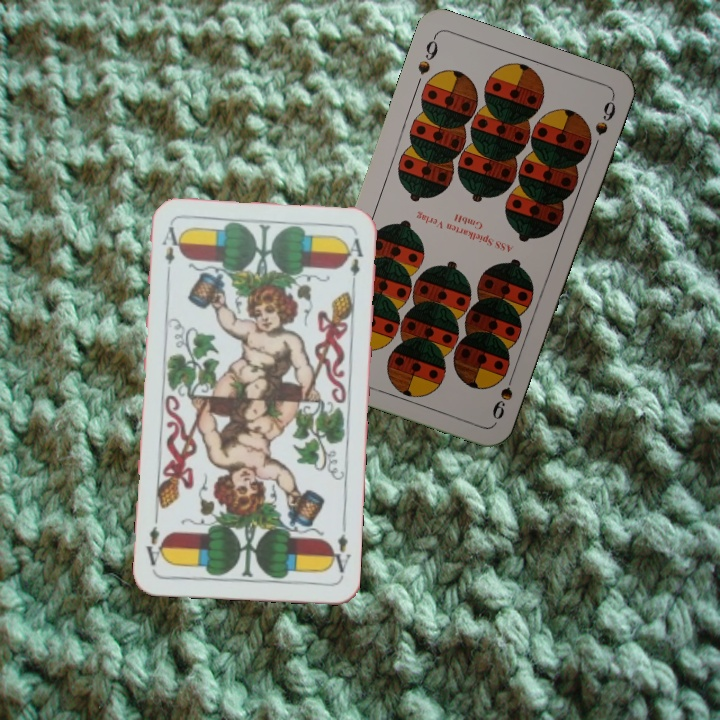EA: (325, 520, 353, 575), (158, 222, 183, 280)
S9: (488, 366, 518, 423), (413, 32, 441, 78)
